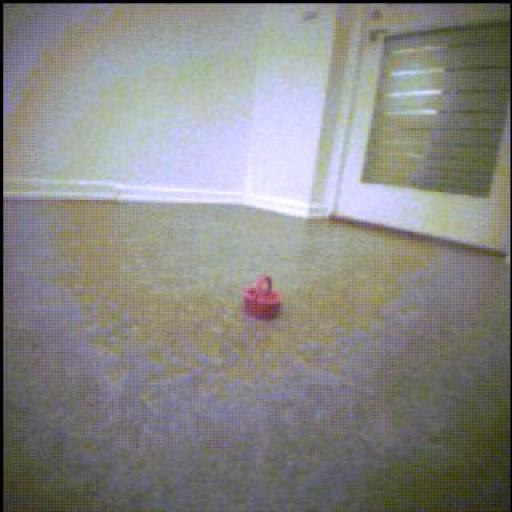Bucket: (244, 276, 283, 321)
